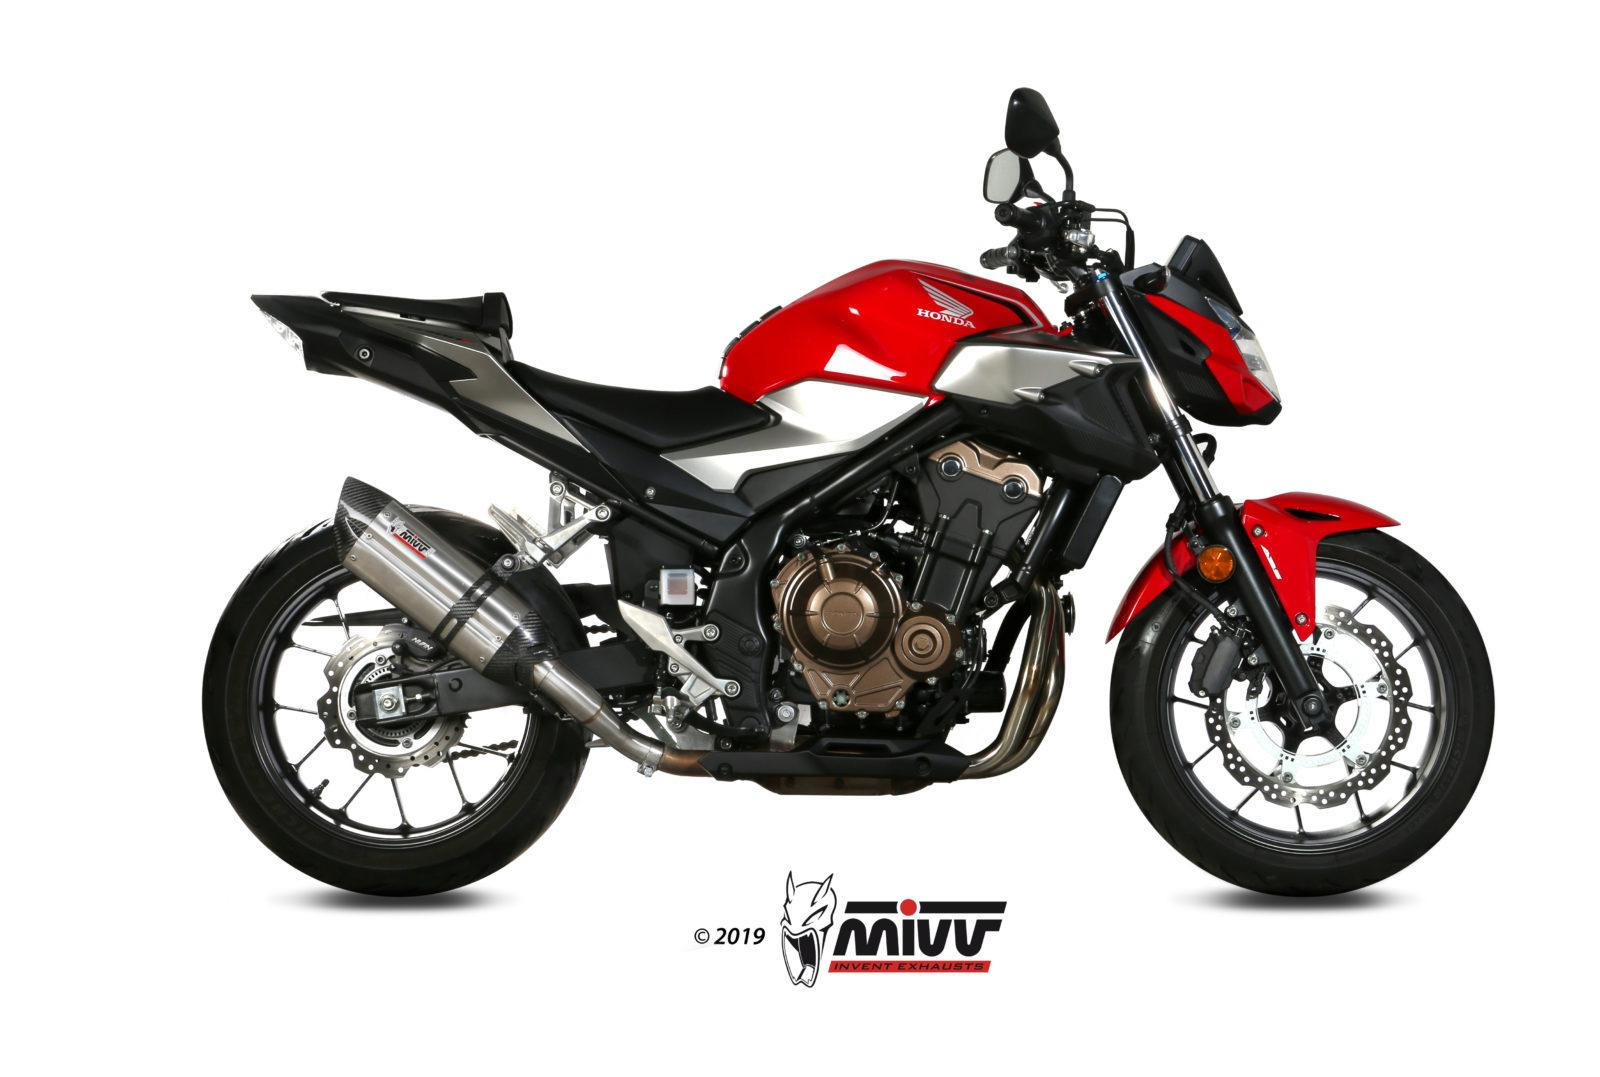engine-chasis: (617, 377, 1051, 743)
exhaust: (333, 475, 1066, 796)
frontside: (932, 239, 1402, 730)
handlebar: (979, 87, 1162, 294), (1164, 234, 1200, 275)
motorbike: (202, 87, 1495, 895)
rearside: (250, 293, 757, 750), (353, 666, 535, 726)
seat: (505, 361, 771, 450), (320, 290, 513, 339)
tank: (716, 258, 1135, 410)
watermark: (682, 863, 1018, 998)
wheel: (201, 510, 594, 898), (1108, 528, 1495, 898), (1162, 486, 1236, 631), (441, 738, 519, 763), (1192, 433, 1218, 469), (583, 624, 617, 635)
